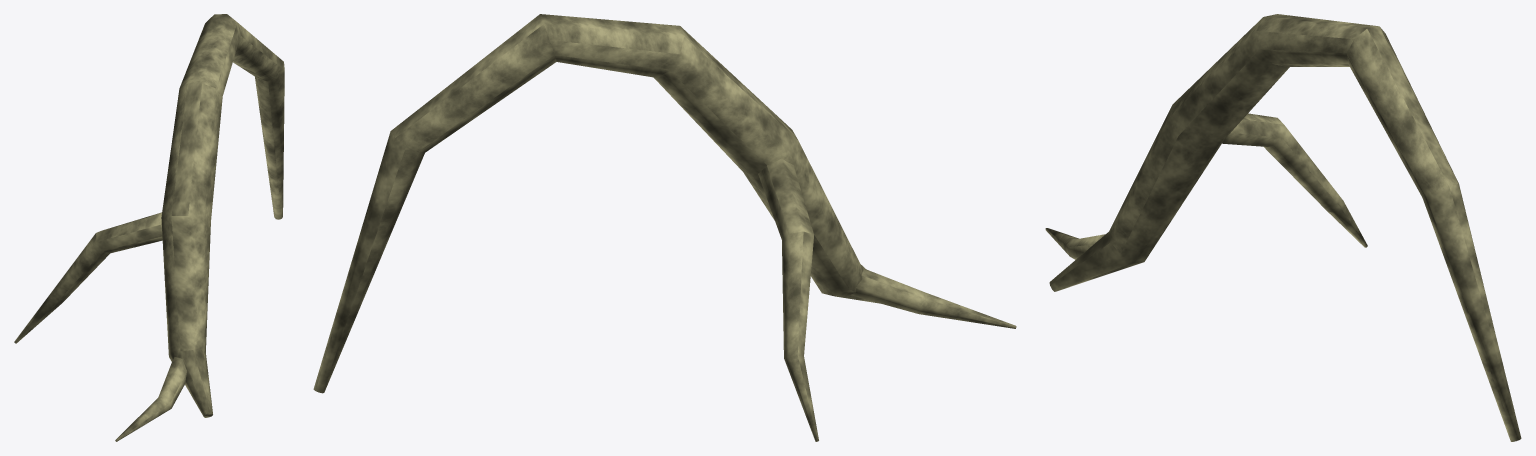
Rendered from root-arch-mx9E6erj.glb.
The picture shows the model from 3 angles, left to right: view 1: azimuth 30°, elevation 25°; view 2: azimuth 150°, elevation 25°; view 3: azimuth 270°, elevation 25°; orthographic projection. The views are drawn at different scales.
Parts seen in each view (by area): view 1: root-arch__LS_pale-root; view 2: root-arch__LS_pale-root; view 3: root-arch__LS_pale-root.
Boxes of the visible parts, x1,y1,x2,y2 form: root-arch__LS_pale-root: (14,14,284,441); root-arch__LS_pale-root: (313,14,1016,441); root-arch__LS_pale-root: (1045,14,1521,441).
Size of the model in its own units: 8.2 by 6.18 by 7.61.
1 material, 1 textured.
